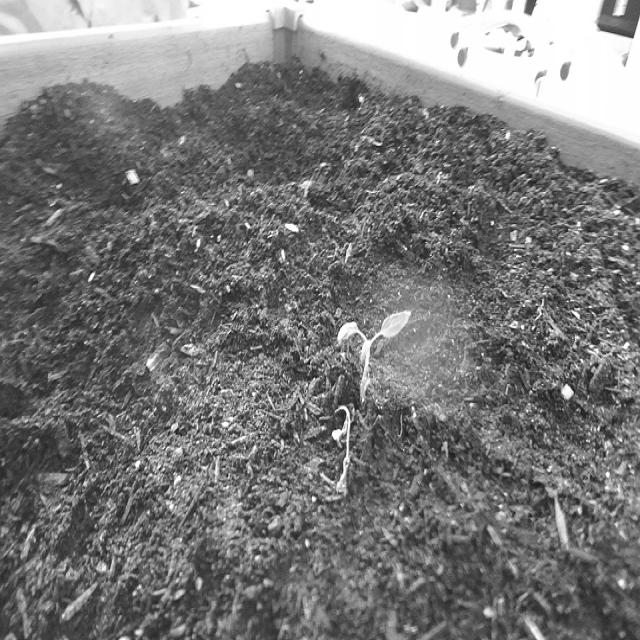Unhealthy: (312, 270, 416, 513)
